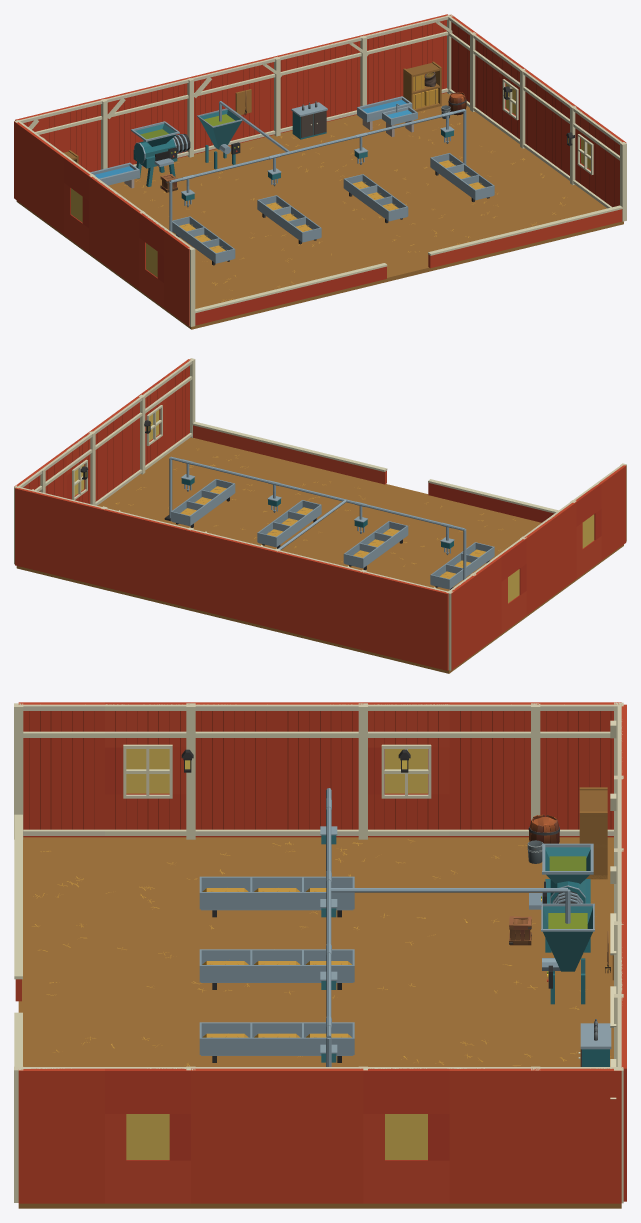
The model's file is BarnInterior_Lv3.fbx.
The picture shows the model from 3 angles, top to bottom: view 1: azimuth 30°, elevation 25°; view 2: azimuth 150°, elevation 25°; view 3: azimuth 270°, elevation 25°; orthographic projection. The views are drawn at different scales.
Parts seen in each view (by area): view 1: Lv3_Floor.001, Lv3_FrontCutaway.001, N01_Wall_2m.056, N01_Wall_2m.057, N01_Wall_2m.054, N01_Wall_2m.055, N01_Wall_2m.051, N01_Wall_2m.050, N03_LargeMotor.002, N01_Wall_2m.059, N01_Wall_2m.058, N01_Wall_2m.060 (+34 smaller); view 2: Lv3_Floor.001, Lv3_FrontCutaway.001, N01_Wall_2m.049, N01_Wall_2m.053, N01_Wall_2m.056, N01_Wall_2m.057, N01_Wall_2m.050, N01_Wall_2m.052, N01_Wall_2m.058, N01_Wall_2m.054, N01_Wall_2m.055, N01_Wall_2m.051 (+18 smaller); view 3: Lv3_Floor.001, N01_Wall_2m.065, N01_Wall_2m.067, N01_Wall_2m.066, N01_WindowWall_2m.016, N01_Wall_2m.064, N01_Wall_2m.068, N01_WindowWall_2m.015, N01_Wall_2m.060, N01_Wall_2m.059, N01_Wall_2m.062, N01_WindowWall_2m.013 (+20 smaller).
Boxes of the visible parts, left/top/right/bottom form: Lv3_Floor.001: left=16, top=93, right=623, bottom=329; Lv3_FrontCutaway.001: left=195, top=205, right=622, bottom=325; N01_Wall_2m.056: left=318, top=35, right=361, bottom=121; N01_Wall_2m.057: left=361, top=25, right=406, bottom=104; N01_Wall_2m.054: left=232, top=56, right=275, bottom=143; N01_Wall_2m.055: left=275, top=46, right=320, bottom=132; N01_Wall_2m.051: left=102, top=88, right=147, bottom=167; N01_Wall_2m.050: left=58, top=98, right=102, bottom=172; N03_LargeMotor.002: left=131, top=121, right=190, bottom=186; N01_Wall_2m.059: left=164, top=230, right=191, bottom=326; N01_Wall_2m.058: left=404, top=14, right=448, bottom=93; N01_Wall_2m.060: left=114, top=193, right=142, bottom=289; Lv3_Floor.001: left=16, top=437, right=623, bottom=673; Lv3_FrontCutaway.001: left=192, top=421, right=558, bottom=522; N01_Wall_2m.049: left=404, top=581, right=448, bottom=670; N01_Wall_2m.053: left=231, top=539, right=275, bottom=628; N01_Wall_2m.056: left=101, top=508, right=147, bottom=596; N01_Wall_2m.057: left=58, top=497, right=102, bottom=586; N01_Wall_2m.050: left=361, top=571, right=406, bottom=660; N01_Wall_2m.052: left=274, top=550, right=319, bottom=639; N01_Wall_2m.058: left=15, top=487, right=60, bottom=575; N01_Wall_2m.054: left=188, top=529, right=233, bottom=617; N01_Wall_2m.055: left=145, top=518, right=188, bottom=607; N01_Wall_2m.051: left=318, top=560, right=362, bottom=649; Lv3_Floor.001: left=18, top=837, right=621, bottom=1208; N01_Wall_2m.065: left=191, top=1067, right=277, bottom=1203; N01_Wall_2m.067: left=449, top=1067, right=535, bottom=1203; N01_Wall_2m.066: left=277, top=1067, right=363, bottom=1203; N01_WindowWall_2m.016: left=363, top=1067, right=449, bottom=1203; N01_Wall_2m.064: left=18, top=1067, right=104, bottom=1203; N01_Wall_2m.068: left=535, top=1067, right=621, bottom=1203; N01_WindowWall_2m.015: left=105, top=1067, right=190, bottom=1203; N01_Wall_2m.060: left=191, top=702, right=277, bottom=837; N01_Wall_2m.059: left=18, top=702, right=104, bottom=837; N01_Wall_2m.062: left=449, top=702, right=535, bottom=837; N01_WindowWall_2m.013: left=105, top=702, right=190, bottom=837.
Size of the model in its own units: 20.26 by 3.58 by 14.23.
